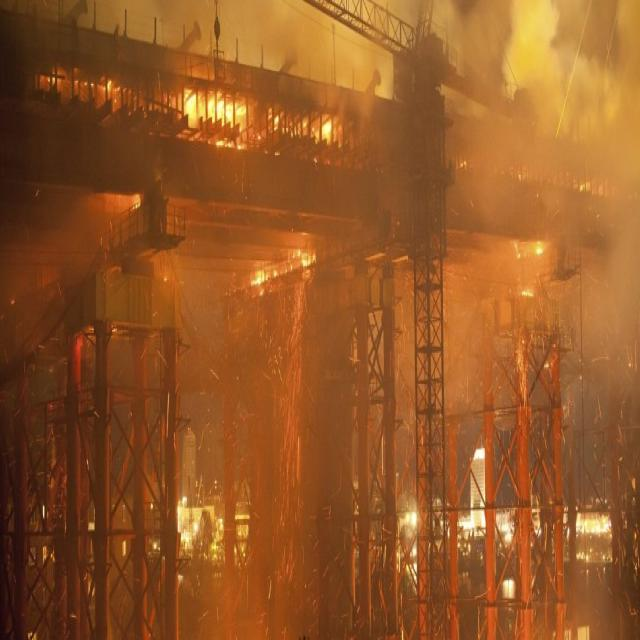Fire: (299, 248, 321, 270)
Smoke: (446, 0, 640, 523), (159, 0, 406, 139), (502, 0, 640, 147)
